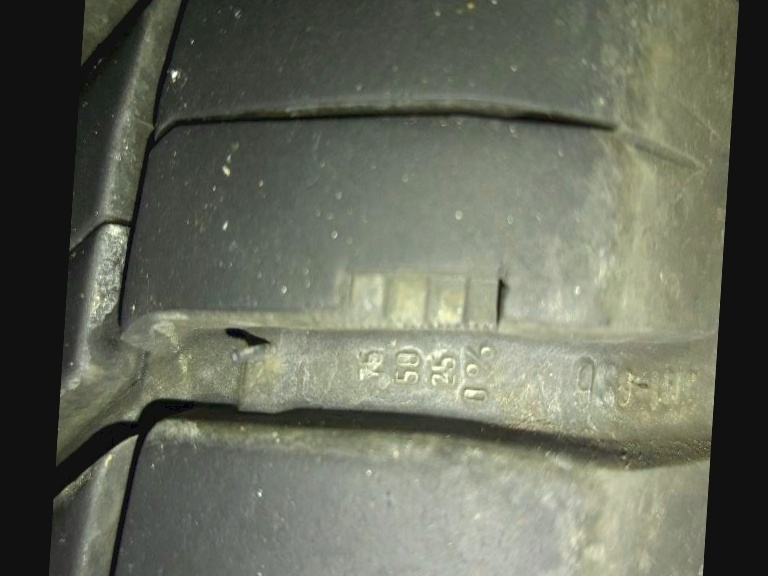temoin:90: (293, 254, 521, 352)
